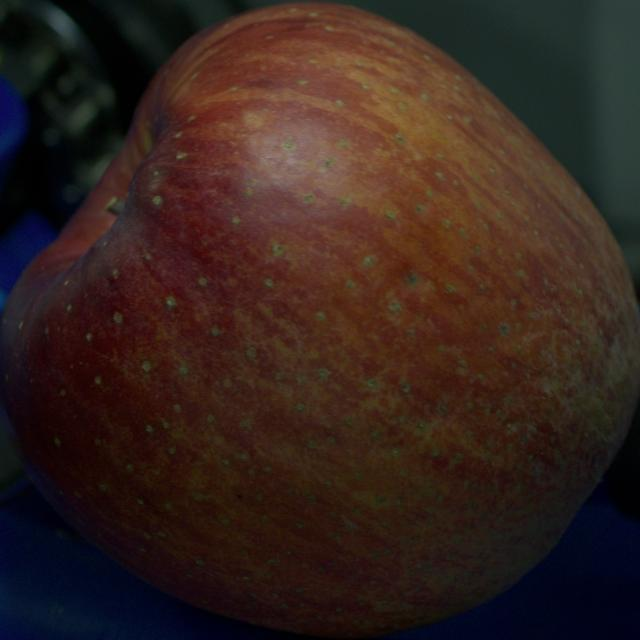apple: (0, 2, 639, 637)
